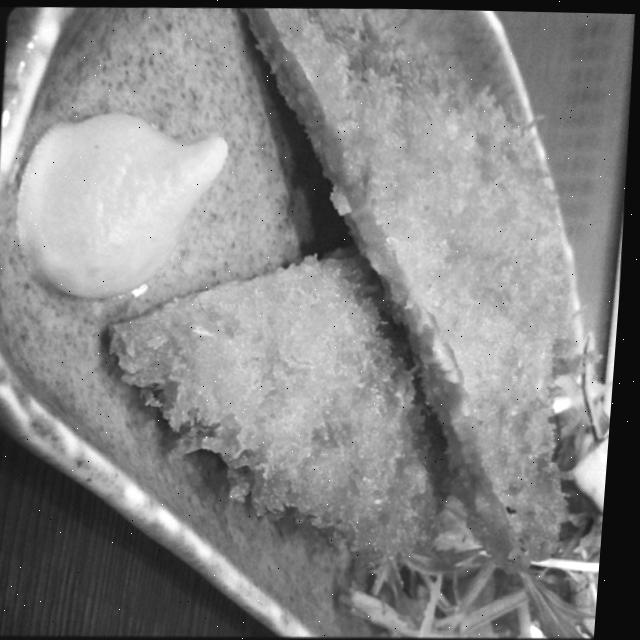炸货点心: (0, 0, 640, 638)
